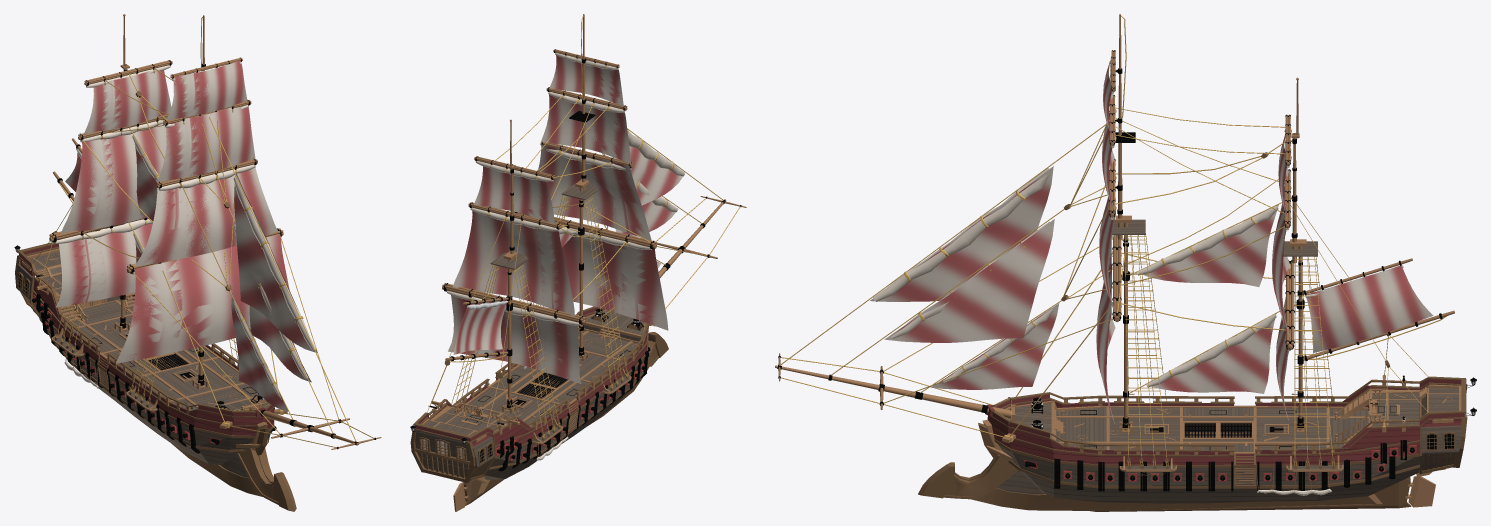
File: PirateShip.fbx
3 views of the same model, side by side, from view 1: azimuth 30°, elevation 25°; view 2: azimuth 150°, elevation 25°; view 3: azimuth 270°, elevation 25° (orthographic). The views are drawn at different scales.
Visible parts, largest first — view 1: Front_Sails, PirateShip, Back_Sails, Front_Sails_V2, Sails_01, Ropes, Back_Sails_V2, Ram, UpSails_01, Front_Mast, Back_Mast, Back_UpSails (+7 smaller); view 2: PirateShip, Front_Sails, Back_Sails, Ropes, Front_Sails_V2, Front_Mast, Back_Mast, Back_Sails_V2, Sails_01, Sail_03, Front_UpSails, Back_UpSails (+8 smaller); view 3: PirateShip, Sails_01, Ropes, Mid_Sails, Ram, Sail_03, Front_Mast, UpSails_01, Back_Mast, Front_Sails, Mid_UpSails, Hull_Armor_02 (+7 smaller).
Part boxes in pixels (x1,y1,x2,y2): Front_Sails: [116, 60, 289, 363]; PirateShip: [14, 242, 287, 465]; Back_Sails: [55, 70, 171, 307]; Front_Sails_V2: [116, 63, 258, 363]; Sails_01: [231, 172, 317, 411]; Ropes: [32, 17, 373, 447]; Back_Sails_V2: [72, 71, 166, 304]; Ram: [171, 443, 296, 511]; UpSails_01: [233, 177, 316, 399]; Front_Mast: [126, 15, 283, 389]; Back_Mast: [49, 14, 172, 332]; Back_UpSails: [54, 65, 170, 243]; PirateShip: [410, 306, 654, 505]; Front_Sails: [538, 55, 668, 330]; Back_Sails: [448, 166, 580, 383]; Ropes: [427, 15, 740, 440]; Front_Sails_V2: [548, 60, 666, 324]; Front_Mast: [513, 14, 656, 360]; Back_Mast: [442, 119, 585, 413]; Back_Sails_V2: [463, 170, 568, 378]; Sails_01: [615, 146, 682, 268]; Sail_03: [453, 300, 506, 354]; Front_UpSails: [546, 53, 651, 249]; Back_UpSails: [447, 161, 580, 325]; PirateShip: [978, 375, 1476, 511]; Sails_01: [870, 166, 1059, 389]; Ropes: [779, 15, 1428, 469]; Mid_Sails: [1142, 204, 1278, 393]; Ram: [918, 455, 1382, 511]; Sail_03: [1306, 265, 1433, 352]; Front_Mast: [1109, 14, 1145, 433]; UpSails_01: [873, 168, 1053, 383]; Back_Mast: [1283, 77, 1317, 433]; Front_Sails: [1096, 62, 1115, 423]; Mid_UpSails: [1136, 205, 1278, 387]; Hull_Armor_02: [1054, 440, 1406, 491].
Size of the model in its own units: 25.52 by 77.07 by 60.28.
